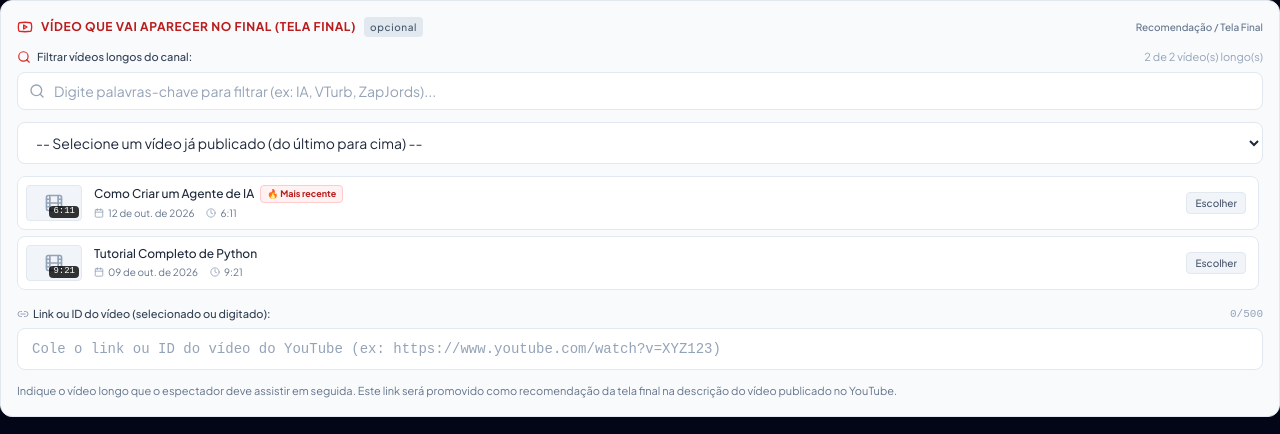
YouTubeEndScreenSelect Component › filters videos in real time when typing into search input
# Digita "Python" no campo de busca
Replace the text in the field with test id "youtube-related-video-search" with "Python": (640, 90) x1=17 y1=72 x2=1263 y2=110
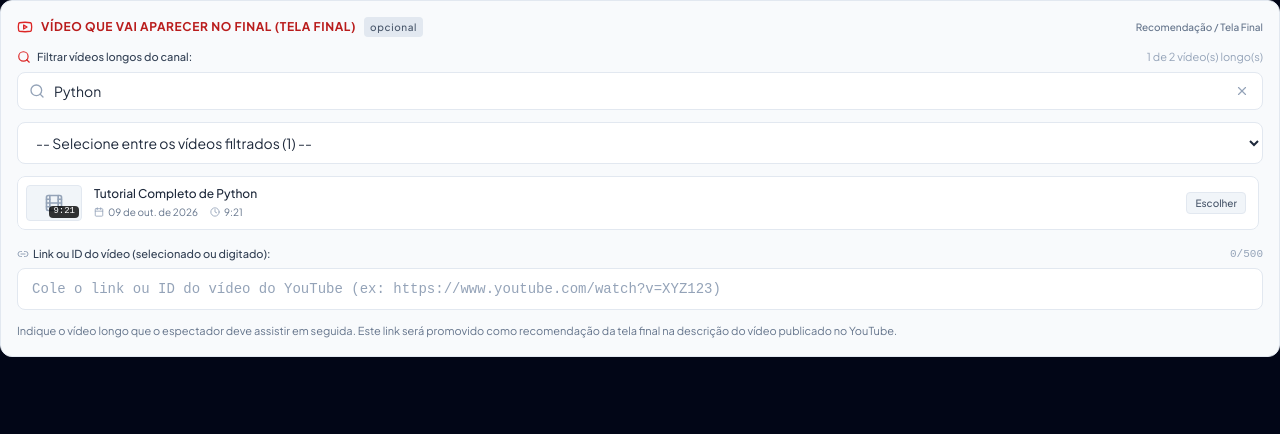
expect the text "Como Criar um Agente de IA" is gone: met
